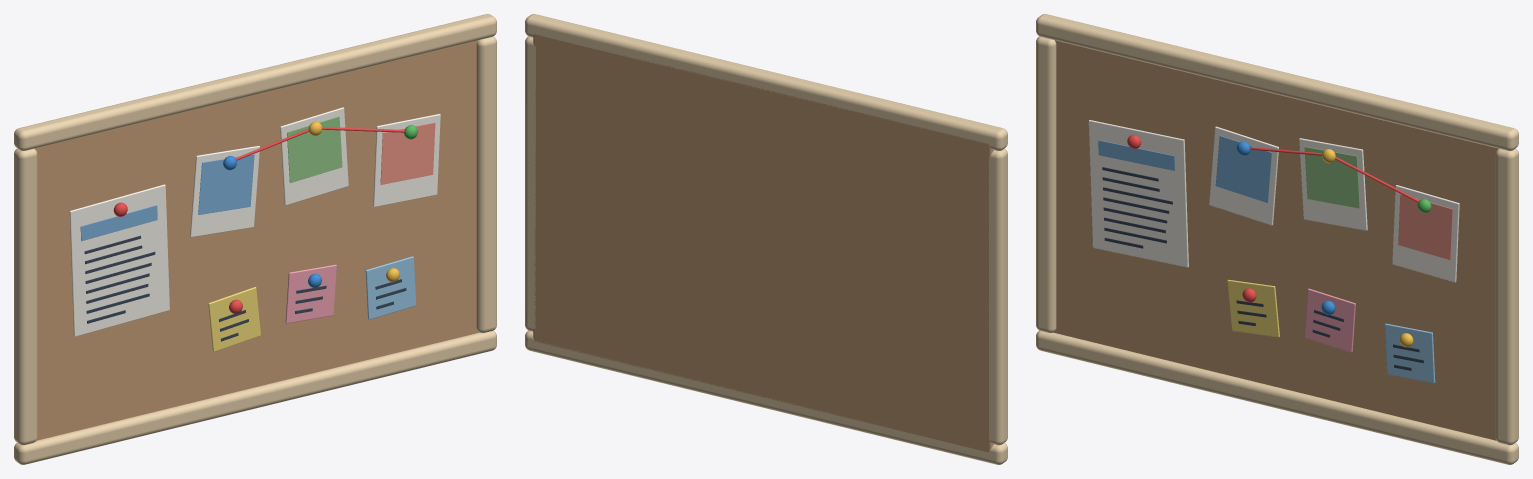
File: cartoon_pinboard.glb
3 views of the same model, side by side, from view 1: azimuth 30°, elevation 25°; view 2: azimuth 150°, elevation 25°; view 3: azimuth 330°, elevation 25° (orthographic).
Parts seen in each view (by area): view 1: PinboardCork, PinboardFrameTop, PinboardFrameBottom, PinboardSheetCard, PinboardFrameLeft, PinboardFrameRight, PinboardPhoto1, PinboardPhoto3, PinboardPhoto2, PinboardPolaroid2Card, PinboardPolaroid3Card, PinboardPolaroid1Card (+4 smaller); view 2: PinboardCork, PinboardFrameTop, PinboardFrameBottom, PinboardFrameLeft, PinboardFrameRight; view 3: PinboardCork, PinboardFrameTop, PinboardFrameBottom, PinboardSheetCard, PinboardFrameRight, PinboardFrameLeft, PinboardPhoto1, PinboardPhoto3, PinboardPhoto2, PinboardPolaroid2Card, PinboardPolaroid3Card, PinboardPolaroid1Card (+4 smaller).
Boxes of the visible parts, box(x1,y1,x2,y2) form: PinboardCork: box(34, 40, 479, 440); PinboardFrameTop: box(14, 14, 496, 150); PinboardFrameBottom: box(14, 330, 496, 464); PinboardSheetCard: box(69, 184, 169, 336); PinboardFrameLeft: box(14, 148, 37, 445); PinboardFrameRight: box(476, 36, 496, 332); PinboardPhoto1: box(198, 154, 254, 214); PinboardPhoto3: box(380, 122, 435, 184); PinboardPhoto2: box(287, 116, 342, 182); PinboardPolaroid2Card: box(280, 107, 348, 205); PinboardPolaroid3Card: box(373, 114, 440, 207); PinboardPolaroid1Card: box(190, 146, 259, 237); PinboardCork: box(533, 33, 993, 452); PinboardFrameTop: box(525, 14, 1007, 150); PinboardFrameBottom: box(525, 330, 1007, 464); PinboardFrameLeft: box(988, 148, 1007, 445); PinboardFrameRight: box(525, 36, 535, 331); PinboardCork: box(1053, 40, 1498, 440); PinboardFrameTop: box(1036, 14, 1518, 150); PinboardFrameBottom: box(1036, 330, 1518, 464); PinboardSheetCard: box(1088, 120, 1188, 267); PinboardFrameRight: box(1495, 148, 1518, 445); PinboardFrameLeft: box(1036, 36, 1056, 332); PinboardPhoto1: box(1215, 135, 1271, 202); PinboardPhoto3: box(1398, 194, 1452, 259); PinboardPhoto2: box(1304, 146, 1359, 208); PinboardPolaroid2Card: box(1299, 138, 1367, 230); PinboardPolaroid3Card: box(1392, 185, 1459, 282); PinboardPolaroid1Card: box(1209, 126, 1278, 225).
Size of the model in its own units: 1.5 by 1 by 0.064.
